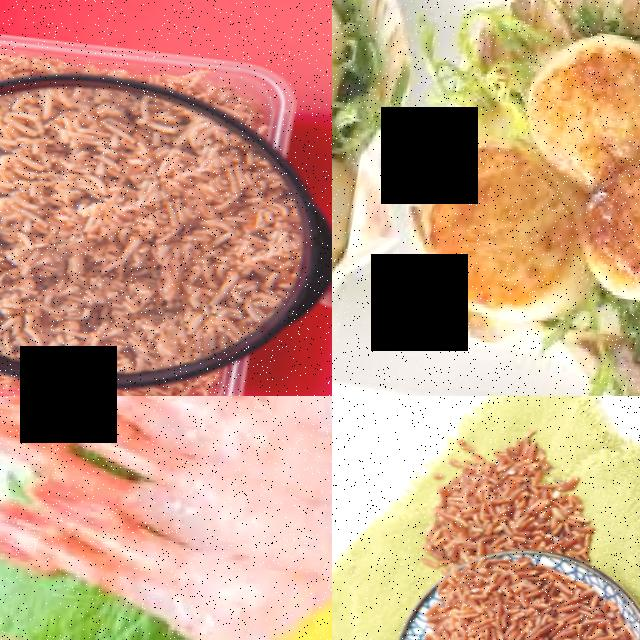red rice: (0, 94, 293, 374), (421, 441, 602, 568), (401, 557, 640, 640)
spinach: (419, 140, 592, 324), (521, 27, 640, 165), (570, 175, 640, 306), (332, 128, 362, 281)
